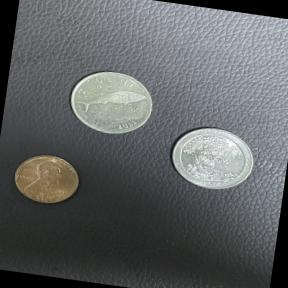Croatia-2Kune-B: (61, 62, 162, 144)
US-1cent-B: (6, 146, 88, 212)
US-25cent-B: (162, 118, 262, 198)
